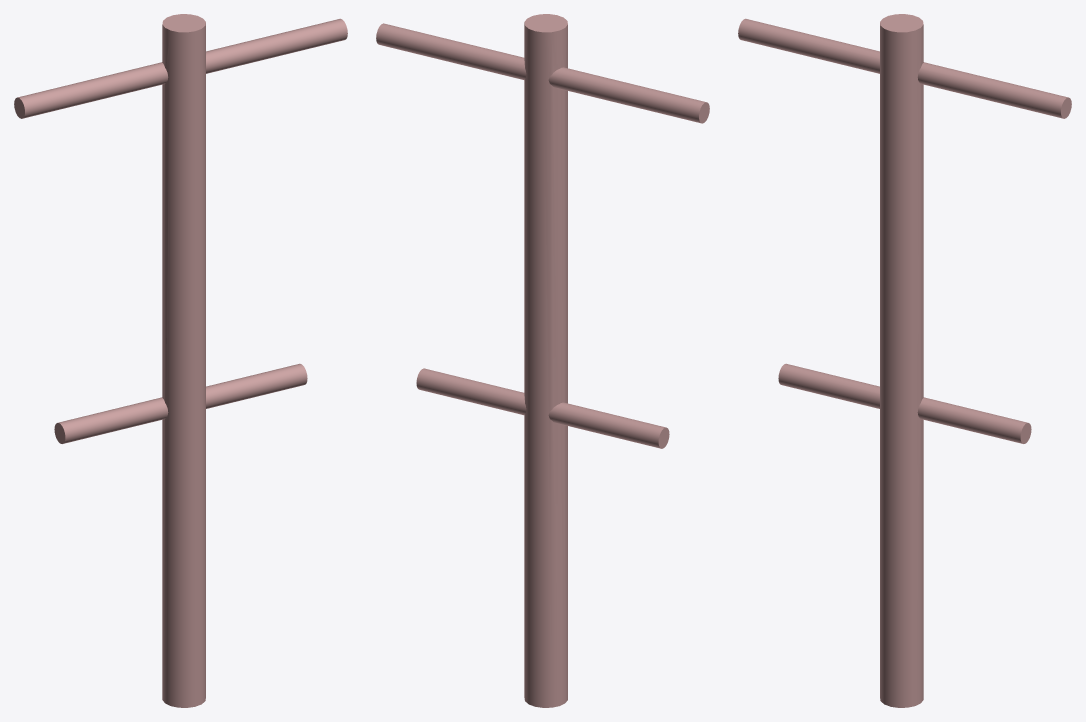
The model's file is Sail2_Mast.fbx.
3 renders of one model, left to right at view 1: azimuth 30°, elevation 25°; view 2: azimuth 150°, elevation 25°; view 3: azimuth 330°, elevation 25°, orthographic.
Parts seen in each view (by area): view 1: Model; view 2: Model; view 3: Model.
Part boxes in pixels (x1,y1,x2,y2): Model: (14,14,347,707); Model: (376,14,709,707); Model: (738,14,1071,707).
Size of the model in its own units: 328 by 657 by 38.76.
